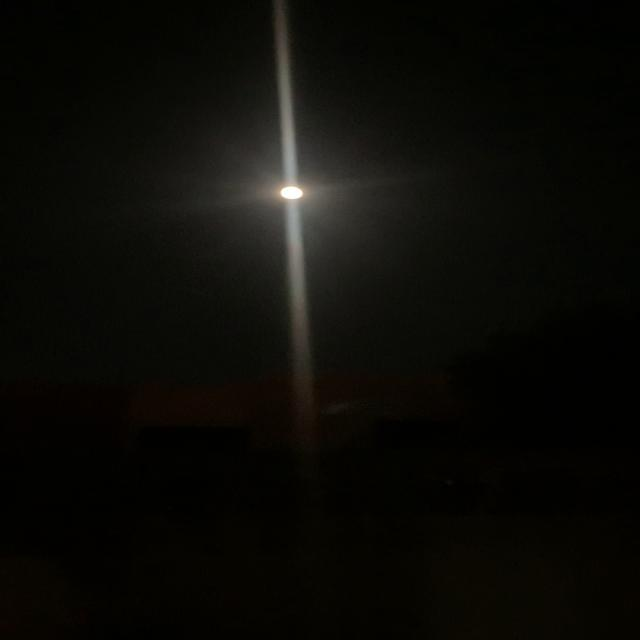moon: (258, 175, 322, 208)
